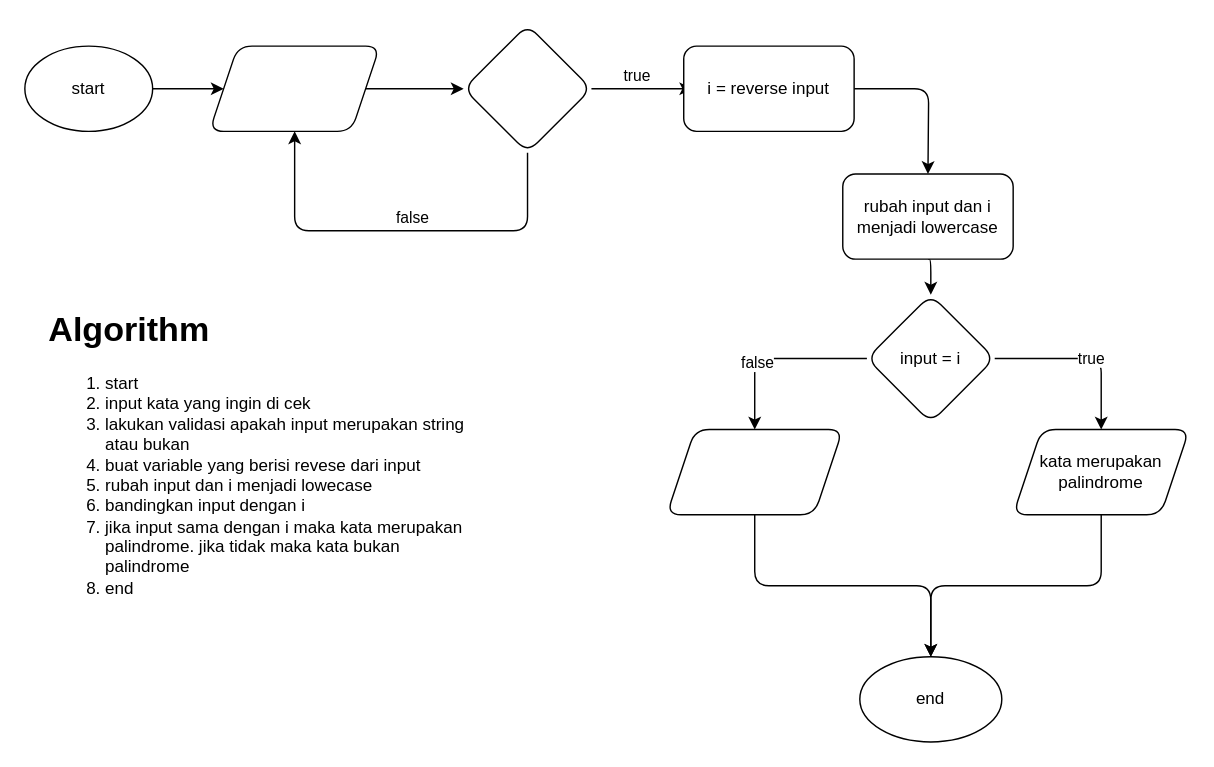
Image size: 1214x767. Some labels were removed from this diagram. The shapes that lost their labels are listed below. From the top down, each one's centre as x and y in pixels, then its label:
At (294,88): "input kata".
At (526,88): "input = string".
At (754,471): "kata bukan palindrome".
